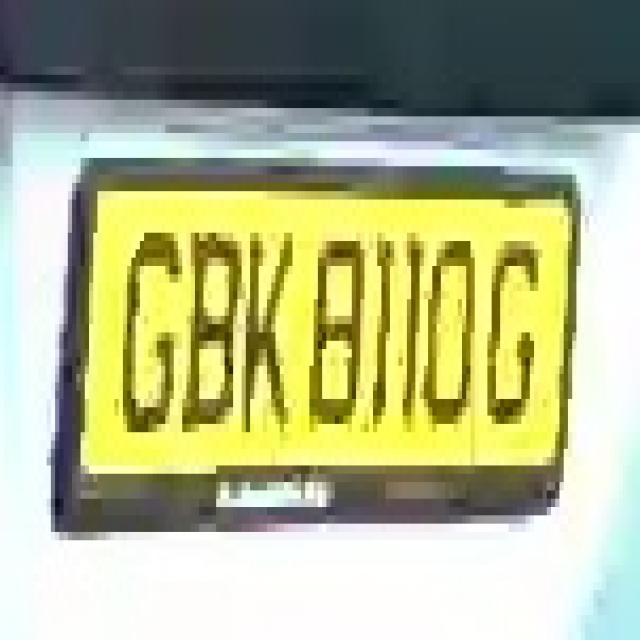0: (420, 208, 483, 432)
1: (356, 216, 398, 424), (390, 216, 424, 457)
8: (301, 216, 369, 441)
B: (174, 174, 242, 473)
G: (106, 183, 186, 457), (479, 216, 542, 449)
K: (229, 183, 292, 457)
